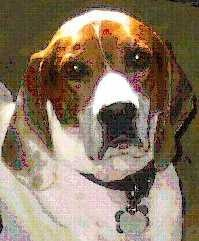dog: (21, 15, 158, 176)
